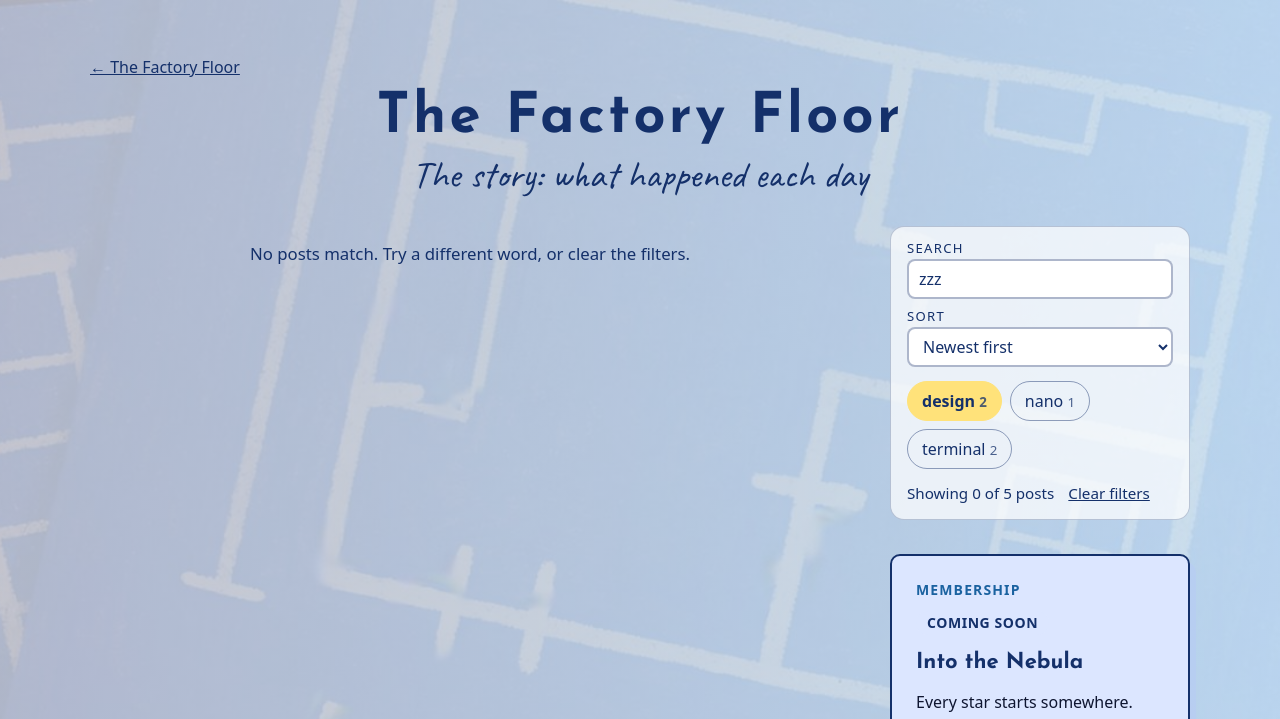
Scenario: the filter on the list pages › says nothing matches, and Clear filters brings everything back
Expected: the text "No posts match. Try a different word, or clear the filters." is shown, [250,242,690,265]
Expected: the message shows "Showing 0 of 5 posts", [907,477,1173,509]
What coordinates should you click on to do the following:
click the button "Clear filters"
I would click on:
 (1109, 493)
Its box is [1068,477,1150,509].
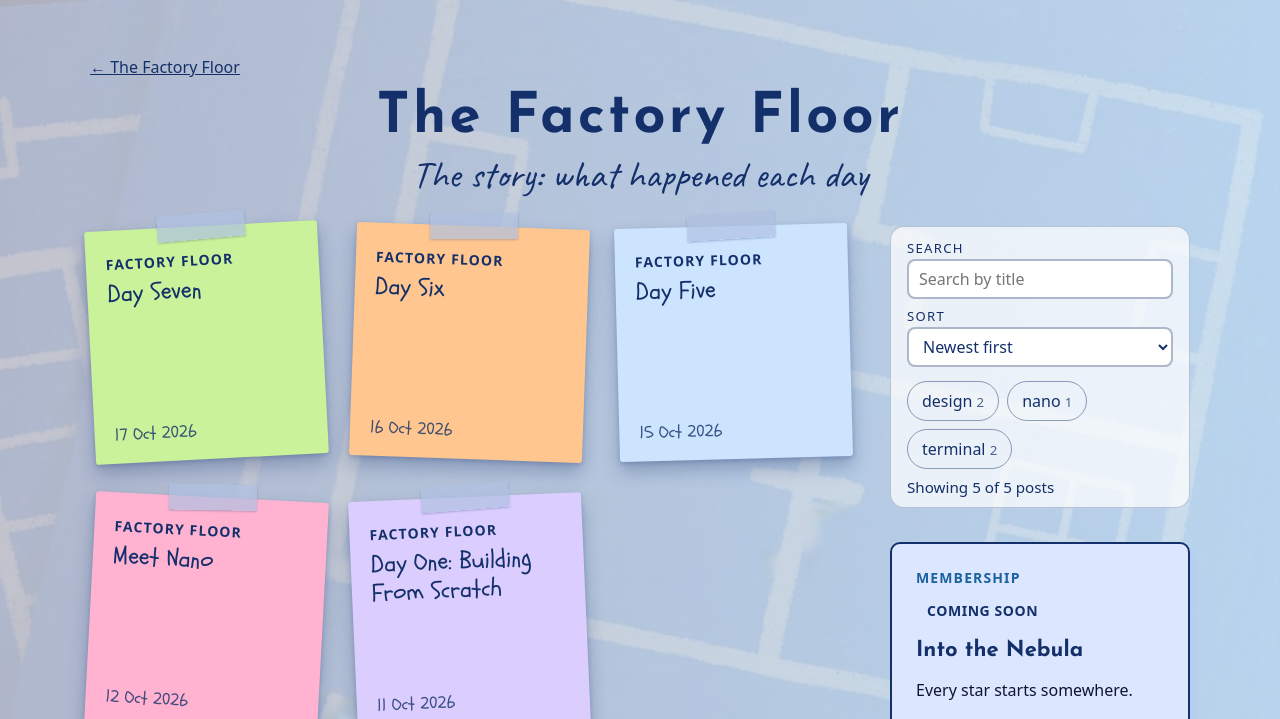
Expected: the search field labelled "Search" is empty, [907,259,1173,299]
Expected: the button "Clear filters" is gone
